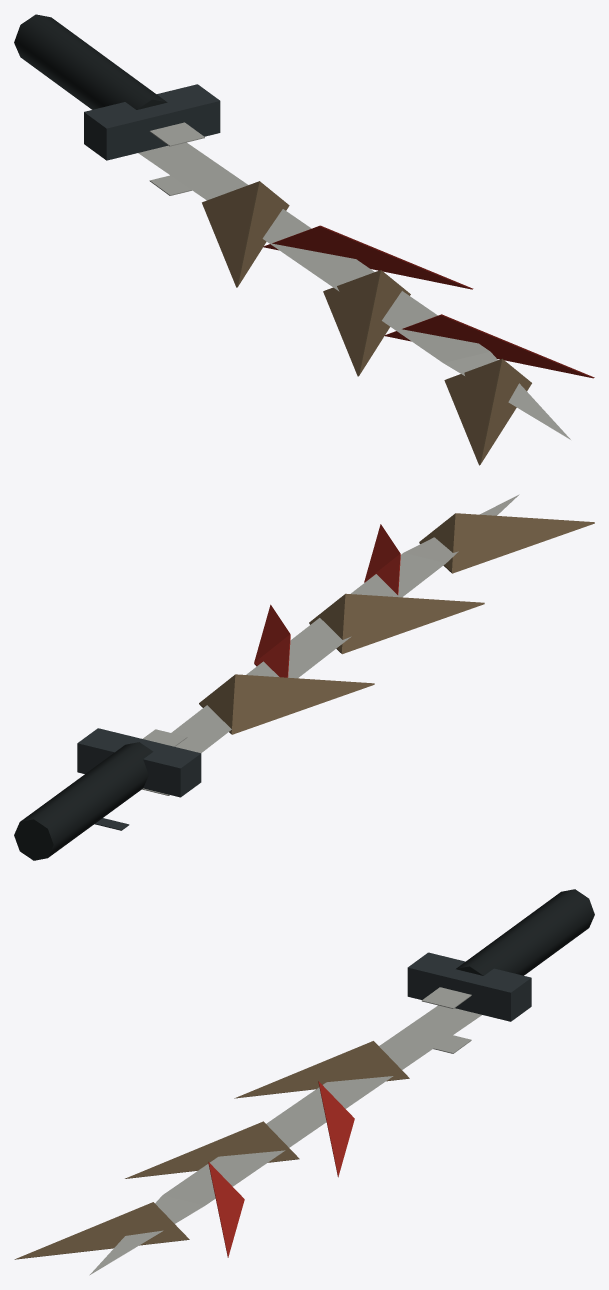
3 renders of one model, top to bottom at view 1: azimuth 30°, elevation 25°; view 2: azimuth 150°, elevation 25°; view 3: azimuth 330°, elevation 25°, orthographic. The views are drawn at different scales.
Parts seen in each view (by area): view 1: weapon-flame-sword-painted; view 2: weapon-flame-sword-painted; view 3: weapon-flame-sword-painted.
Boxes of the visible parts, <box> form: weapon-flame-sword-painted: <box>14,14,594,465</box>; weapon-flame-sword-painted: <box>14,494,594,860</box>; weapon-flame-sword-painted: <box>14,889,594,1275</box>.
Bounding box in the file's own units: 1.12 × 0.4032 × 5.89.
